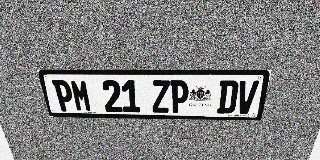1: (120, 80, 140, 112)
2: (101, 80, 123, 112)
D: (217, 80, 239, 114)
M: (70, 80, 93, 112)
P: (52, 80, 76, 111), (170, 80, 189, 113)
V: (235, 80, 259, 114)
Z: (151, 80, 170, 113)
